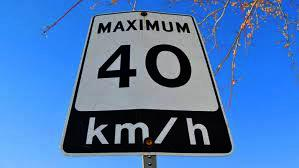speed limit sign: (59, 8, 236, 157)
